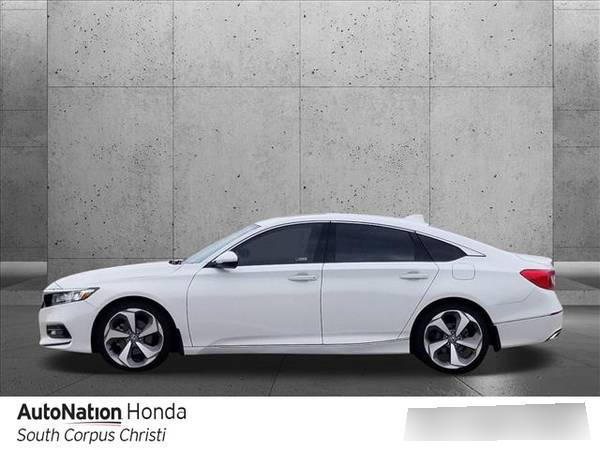Front_Bumper: (36, 300, 97, 353)
Front_Fender: (60, 269, 194, 354)
Front_Left_Door: (186, 261, 322, 351)
Front_Left_Window: (206, 221, 331, 266)
Hood: (46, 260, 198, 289)
Left_Headlight: (36, 288, 95, 309)
Left_Taillight: (520, 269, 557, 292)
Rear_Bumper: (484, 289, 564, 346)
Rear_Fender: (419, 235, 552, 312)
Rear_Left_Door: (320, 263, 438, 355)
Rear_Left_Window: (325, 222, 437, 265)
Roof: (197, 217, 544, 269)
Wheel: (97, 303, 174, 373), (415, 306, 490, 377)
